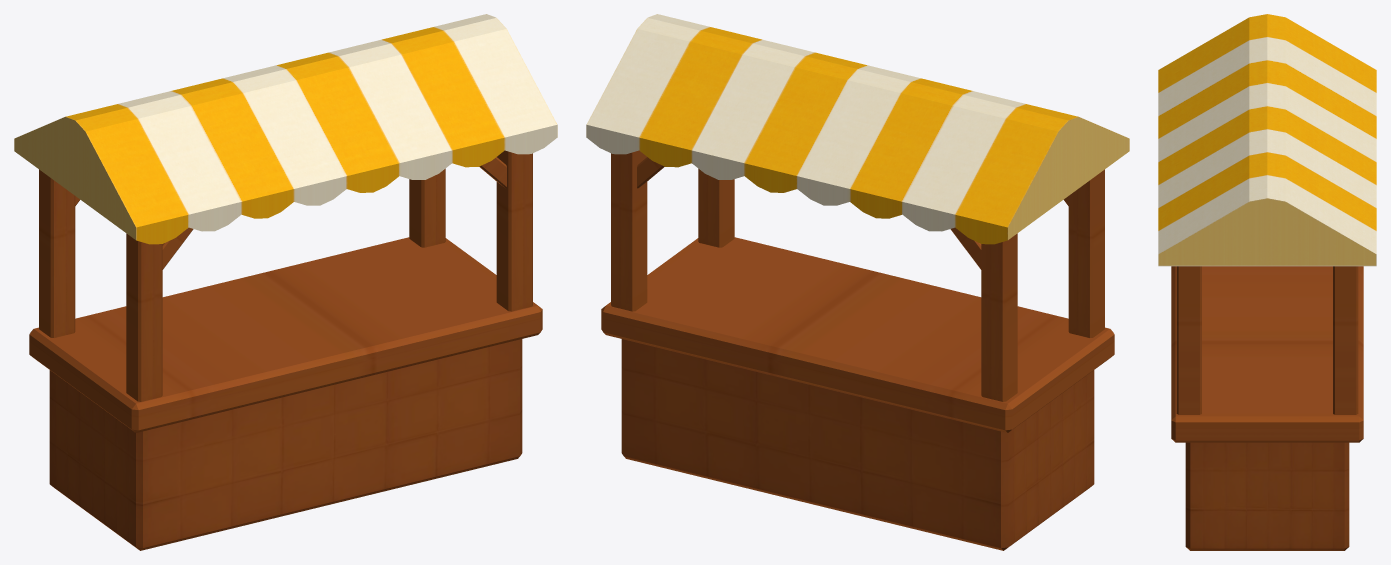
The model's file is stall.glb.
The picture shows the model from 3 angles, left to right: view 1: azimuth 30°, elevation 25°; view 2: azimuth 150°, elevation 25°; view 3: azimuth 270°, elevation 25°; orthographic projection. The views are drawn at different scales.
Visible parts, largest first — view 1: stall; view 2: stall; view 3: stall.
Part boxes in pixels (left/top/right/bottom): stall: left=14, top=14, right=557, bottom=550; stall: left=586, top=14, right=1129, bottom=550; stall: left=1158, top=14, right=1376, bottom=550.
Bounding box in the file's own units: 2.4 × 2.2 × 1.2.
3 materials, 1 textured.
